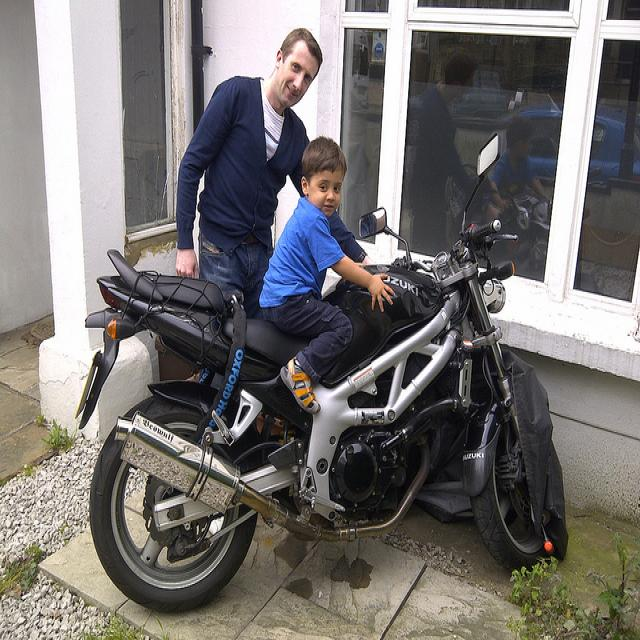motor: (73, 125, 564, 618)
